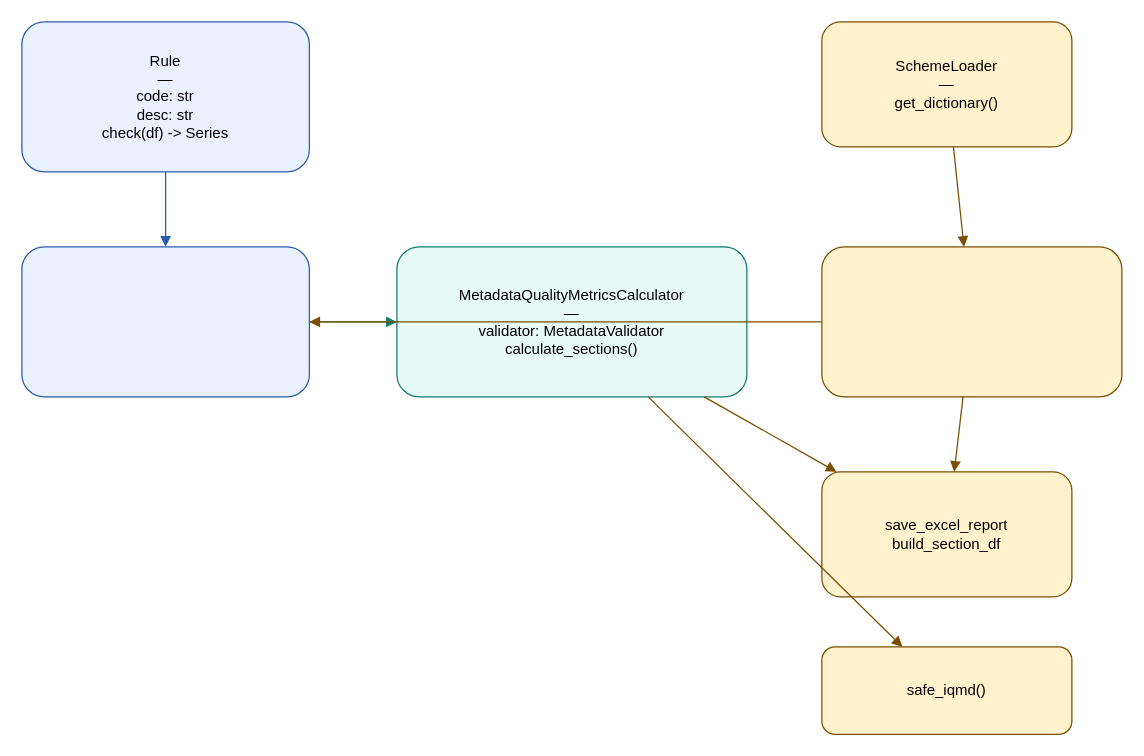
Image size: 1144x756. Some labels were removed from this diagram. The centre of each missing label's shape, as x and y in pixels:
MetadataValidator — df: DataFrame issues_df: DataFrame run_all(): (165,321)
run_model_quality (use case) — RunOptions orchestration: (971,321)
